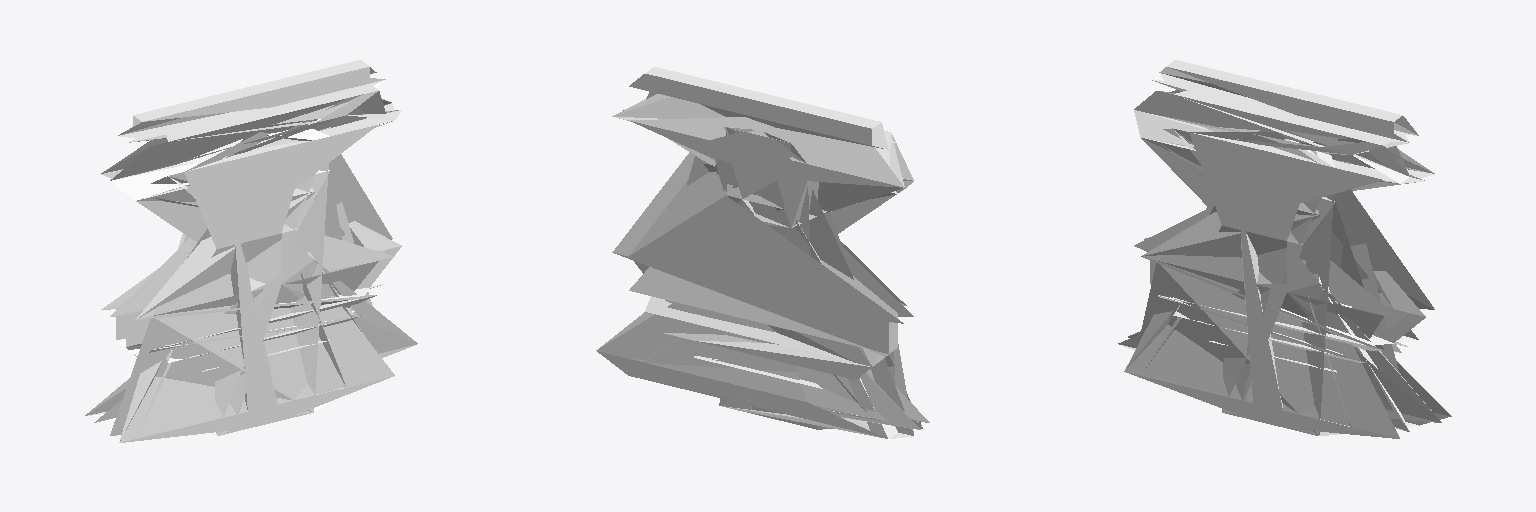
Rendered from flytrap_02.obj.
3 renders of one model, left to right at view 1: azimuth 30°, elevation 25°; view 2: azimuth 150°, elevation 25°; view 3: azimuth 330°, elevation 25°, orthographic.
Bounding box in the file's own units: 20 × 19 × 2.